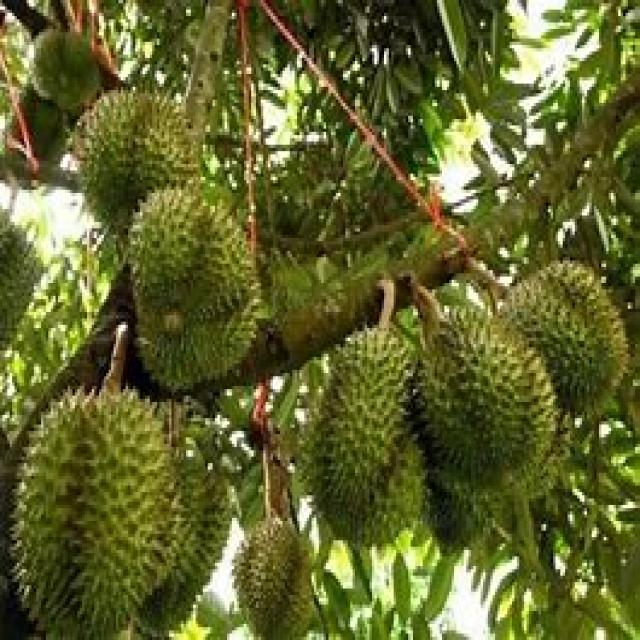immature: (10, 381, 179, 640), (409, 304, 567, 481), (310, 319, 432, 547), (129, 187, 264, 392), (494, 257, 632, 420), (76, 87, 205, 234)
